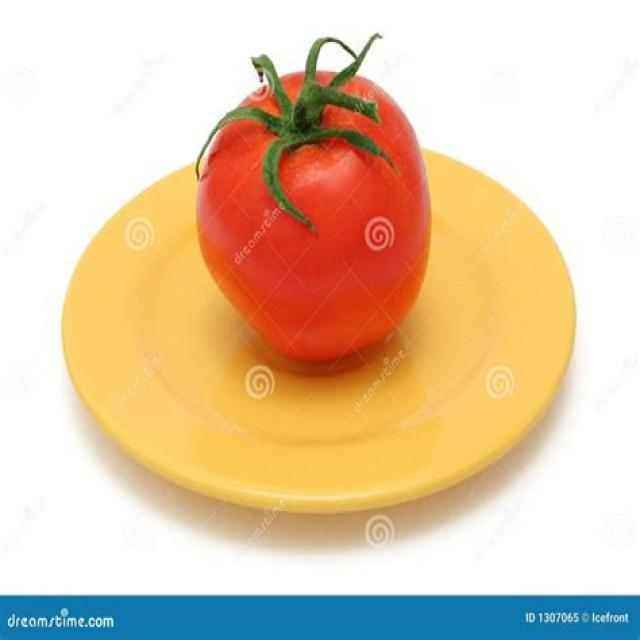Tomato: (194, 39, 433, 366)
